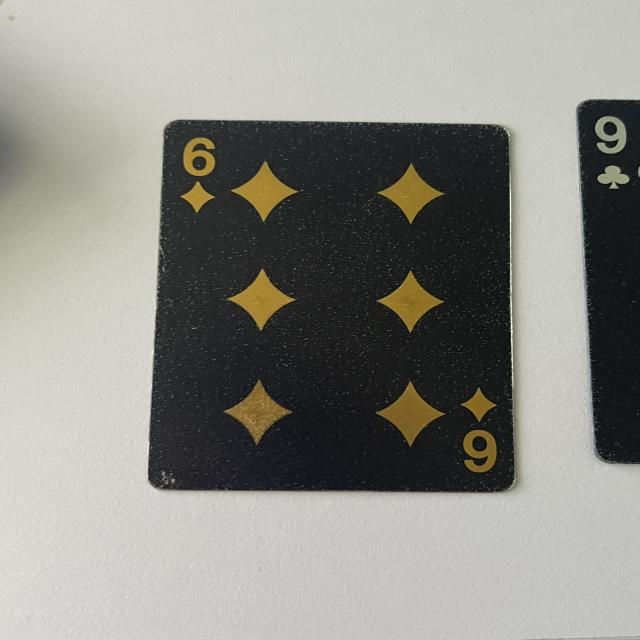6D: (169, 128, 234, 216), (457, 386, 507, 479)
9C: (586, 106, 637, 192)
